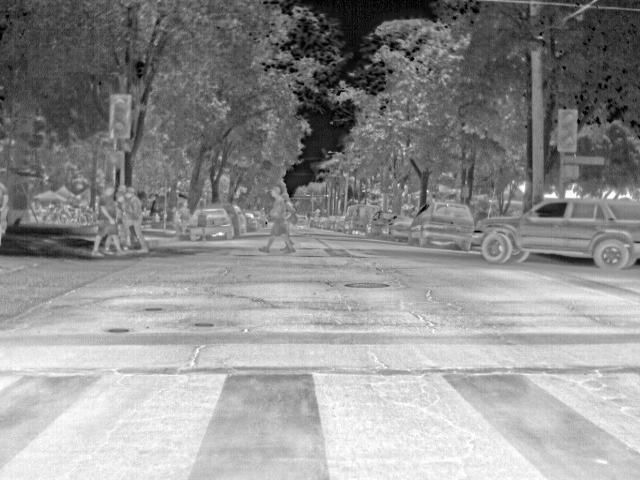car: (476, 199, 639, 272), (411, 201, 476, 253), (341, 202, 380, 236), (205, 208, 236, 241), (365, 209, 399, 238), (389, 216, 415, 244)
person: (257, 183, 295, 254), (93, 187, 127, 258), (125, 188, 148, 255), (115, 190, 129, 231)
